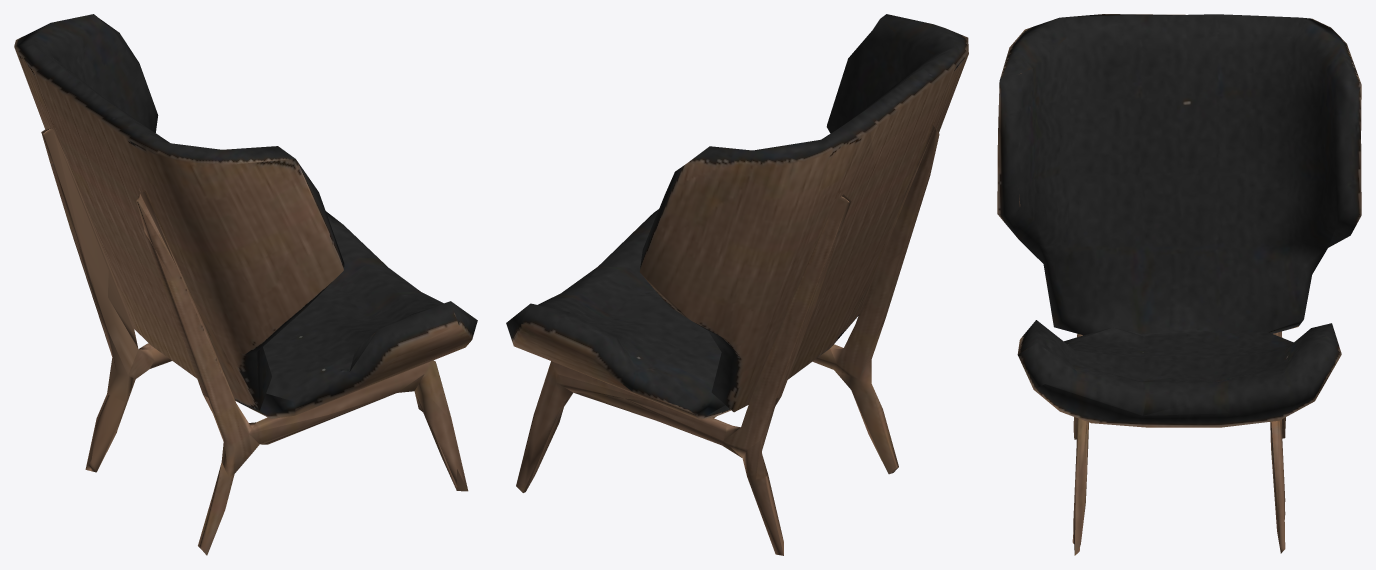
File: S_Sofa0012.obj
3 renders of one model, left to right at view 1: azimuth 30°, elevation 25°; view 2: azimuth 150°, elevation 25°; view 3: azimuth 270°, elevation 25°, orthographic. The views are drawn at different scales.
Size of the model in its own units: 0.65 by 0.803 by 0.663.
1 material, 1 textured.
